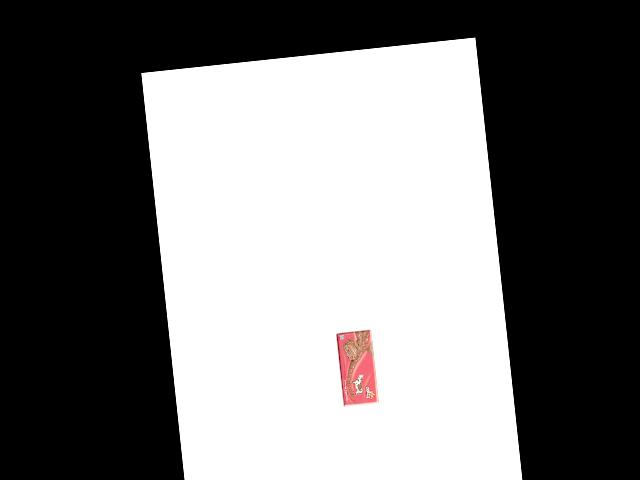chocolate: (331, 327, 380, 409)
